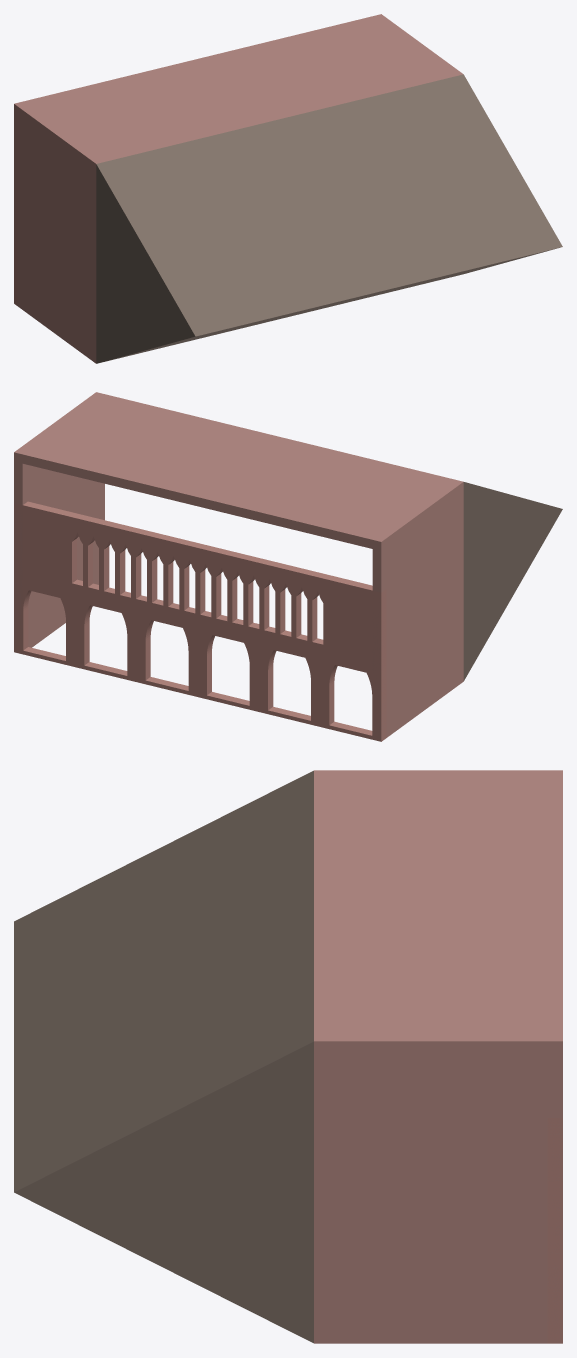
Rendered from eval_L0_box.glb.
3 views of the same model, one above another, from view 1: azimuth 30°, elevation 25°; view 2: azimuth 150°, elevation 25°; view 3: azimuth 270°, elevation 25° (orthographic). The views are drawn at different scales.
Parts seen in each view (by area): view 1: dach, waende, fassade; view 2: waende, fassade, dach; view 3: waende, dach, fassade.
Boxes of the visible parts, x1,y1,x2,y2 form: dach: (96,74,562,363); waende: (14,14,463,363); fassade: (14,158,18,306); waende: (14,392,463,741); fassade: (14,501,386,741); dach: (463,482,562,680); waende: (314,770,562,1343); dach: (14,770,313,1343); fassade: (547,1118,562,1343).
Size of the model in its own units: 25 by 13 by 21.4.
